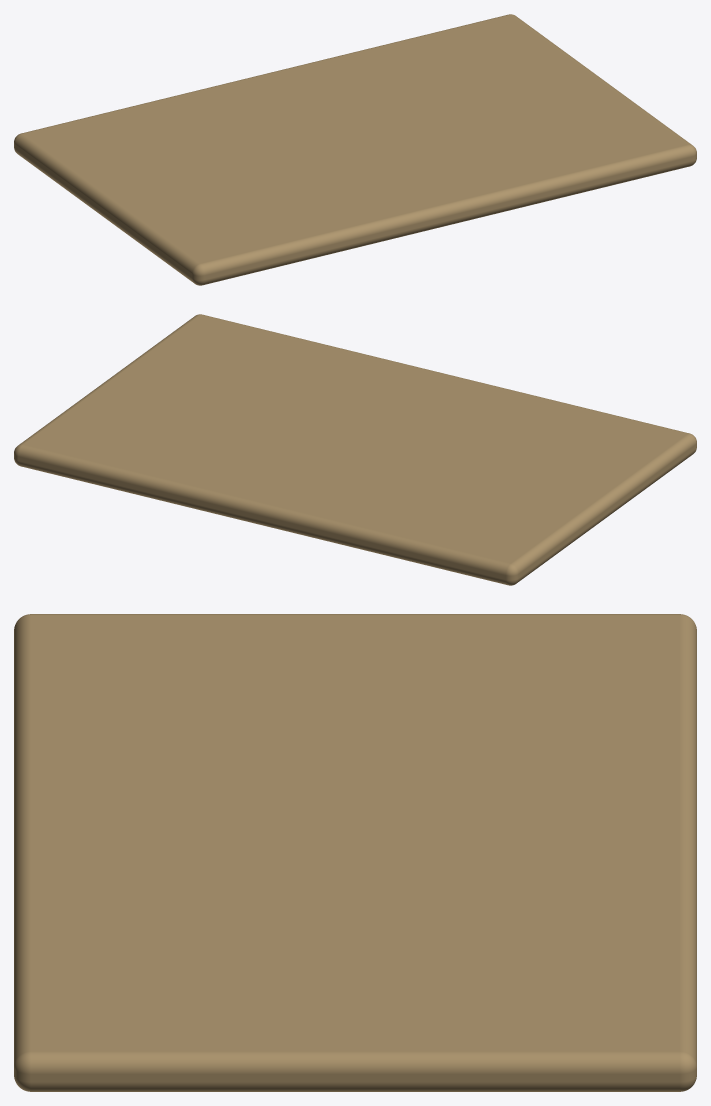
Rendered from workboard01__assembly__workboard_assembly.gltf.
3 renders of one model, top to bottom at view 1: azimuth 30°, elevation 25°; view 2: azimuth 150°, elevation 25°; view 3: azimuth 270°, elevation 25°, orthographic. The views are drawn at different scales.
Parts seen in each view (by area): view 1: =>[0:1:1:4]; view 2: =>[0:1:1:4]; view 3: =>[0:1:1:4].
Part boxes in pixels (x1,y1,x2,y2): =>[0:1:1:4]: (14,14,696,285); =>[0:1:1:4]: (14,314,696,585); =>[0:1:1:4]: (14,614,696,1091).
Size of the model in its own units: 0.3962 by 0.0279 by 0.254.
